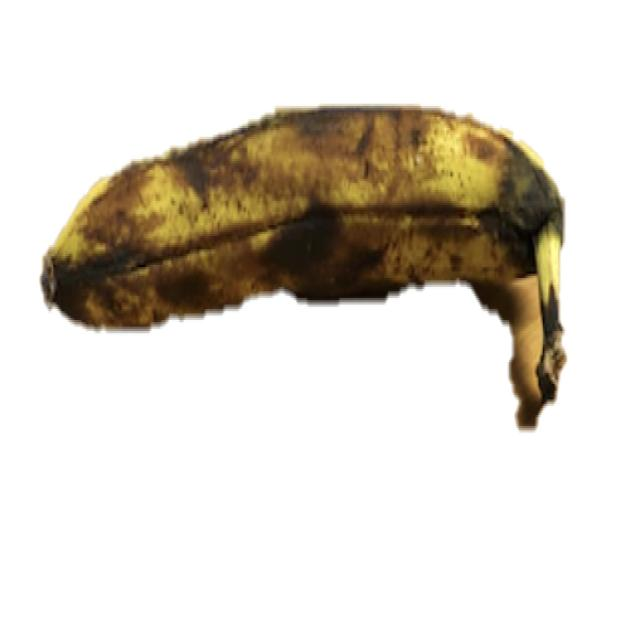rotten-banana: (39, 99, 567, 428)
